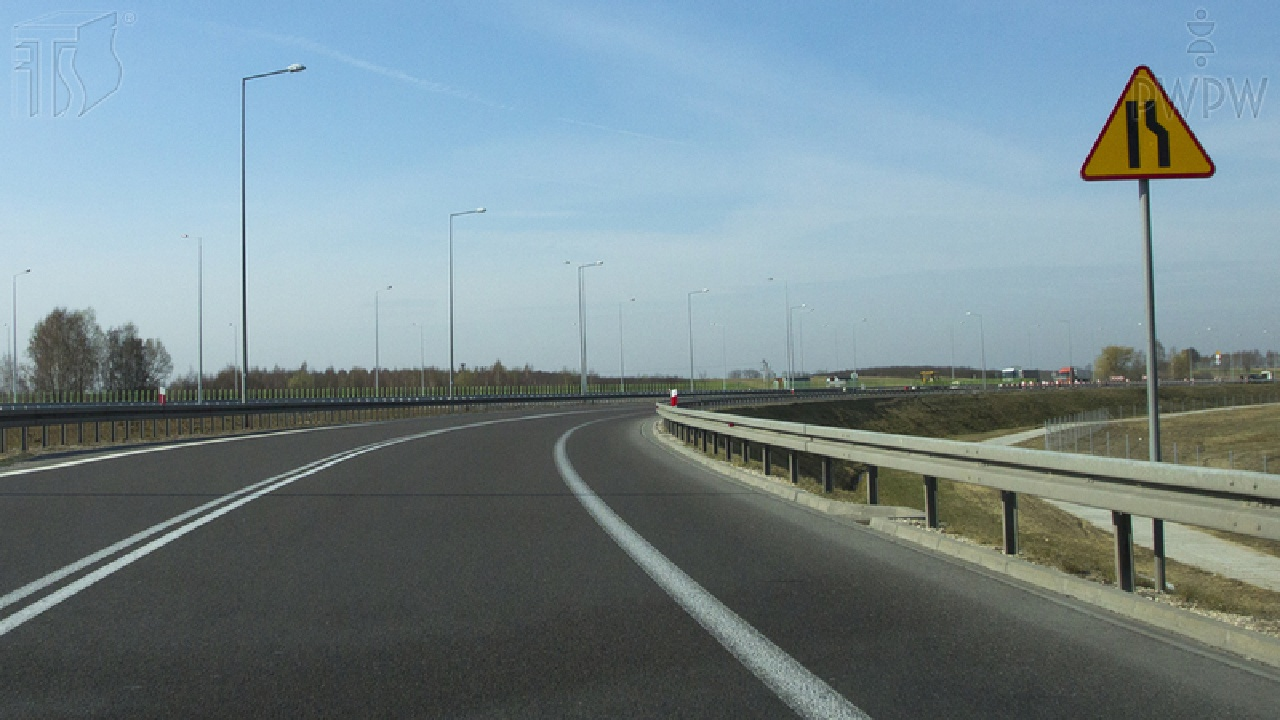A12b: (1080, 65, 1217, 181)
